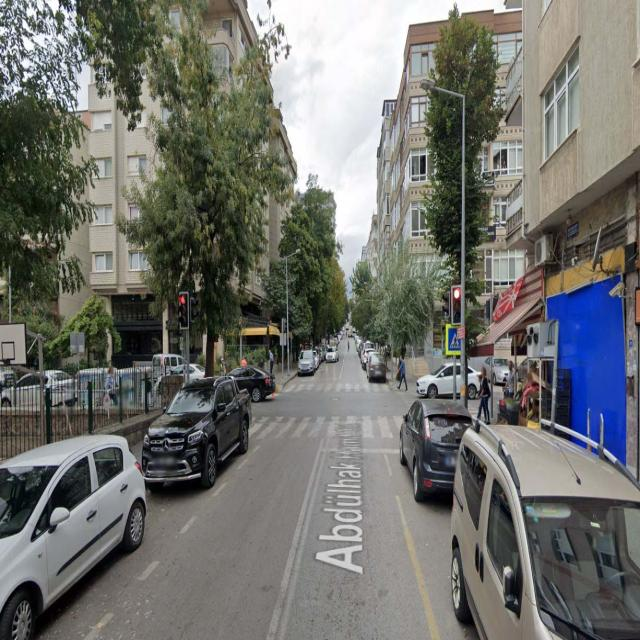kirmizi: (179, 292, 189, 330), (452, 286, 462, 324)
